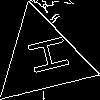H: (18, 33, 71, 79)
